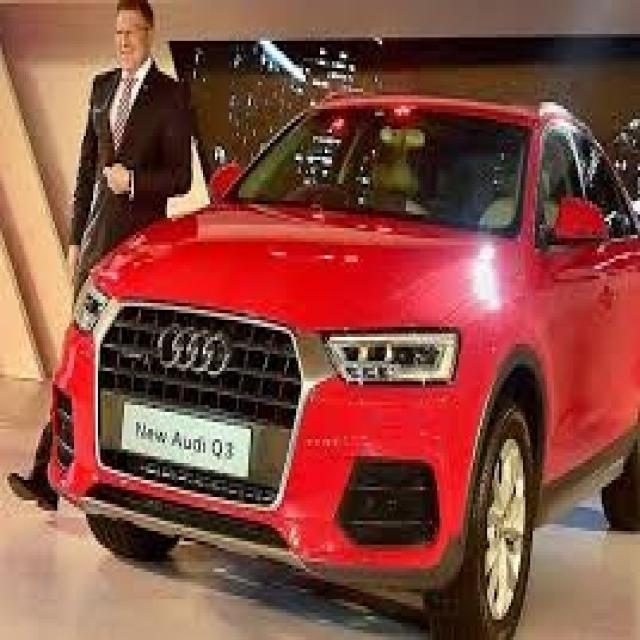red: (52, 78, 640, 605)
